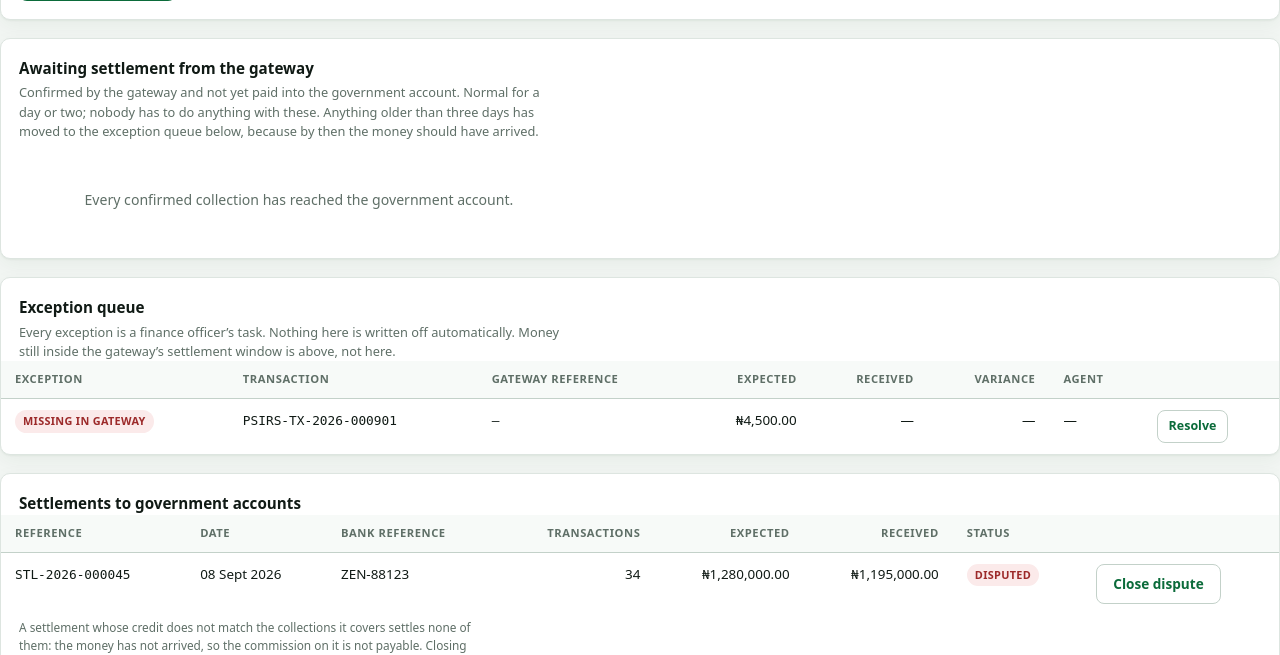
Scenario: an answer the screen cannot use › says so when the bank reference is left empty
The image size is (1280, 655).
(page scrolled)
Expected: the text "STL-2026-000045" is shown, [15, 567, 131, 582]
Click the button "Close dispute": (1158, 584) [1096, 564, 1221, 604]
(page scrolled)
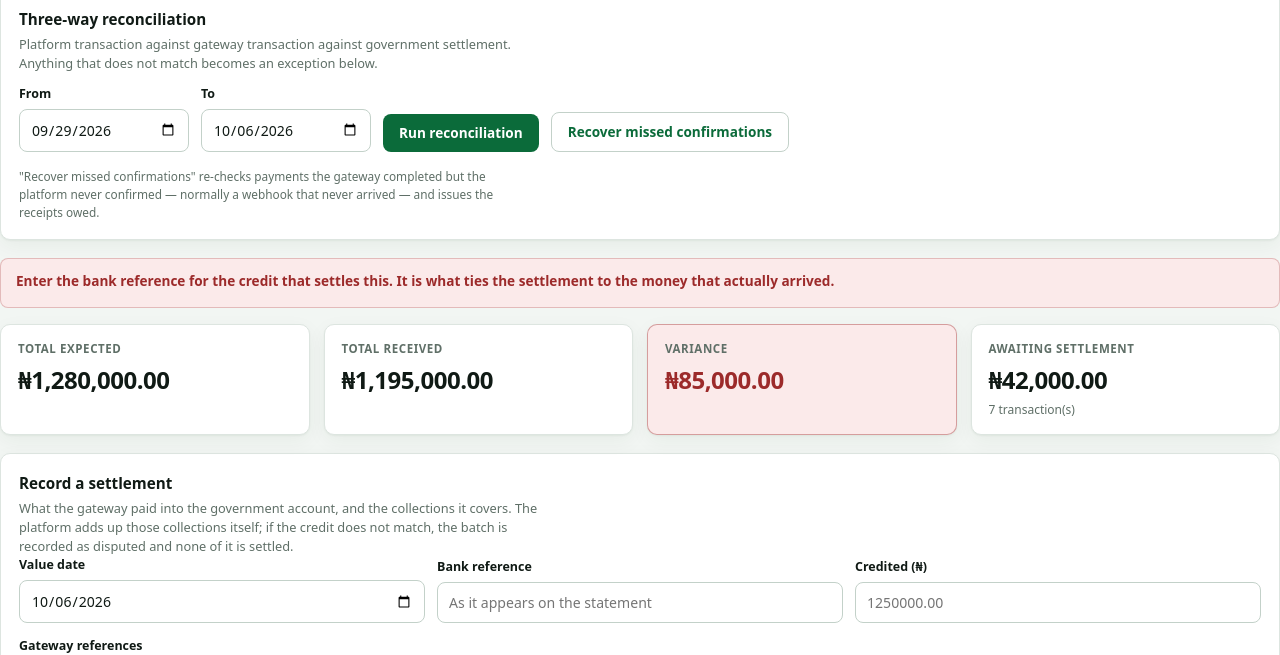
Expected: the text "ties the settlement to the money" is shown, [16, 271, 834, 290]
